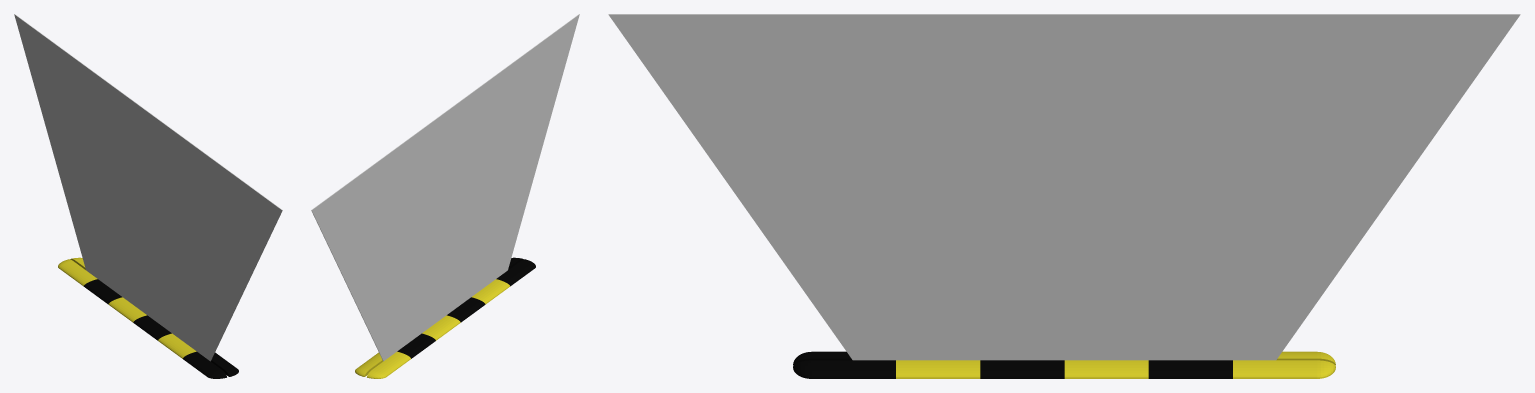
The model's file is Bump.fbx.
3 views of the same model, side by side, from view 1: azimuth 30°, elevation 25°; view 2: azimuth 150°, elevation 25°; view 3: azimuth 270°, elevation 25° (orthographic). The views are drawn at different scales.
Visible parts, largest first — view 1: DigitalizeCurtain, Bump; view 2: DigitalizeCurtain, Bump; view 3: DigitalizeCurtain, Bump.
Part boxes in pixels (box(x1,y1,x2,y2)): DigitalizeCurtain: box(14, 14, 282, 361); Bump: box(58, 257, 238, 378); DigitalizeCurtain: box(311, 14, 579, 361); Bump: box(355, 257, 535, 378); DigitalizeCurtain: box(608, 14, 1520, 360); Bump: box(793, 351, 1335, 378).
Size of the model in its own units: 52.03 by 336 by 789.
